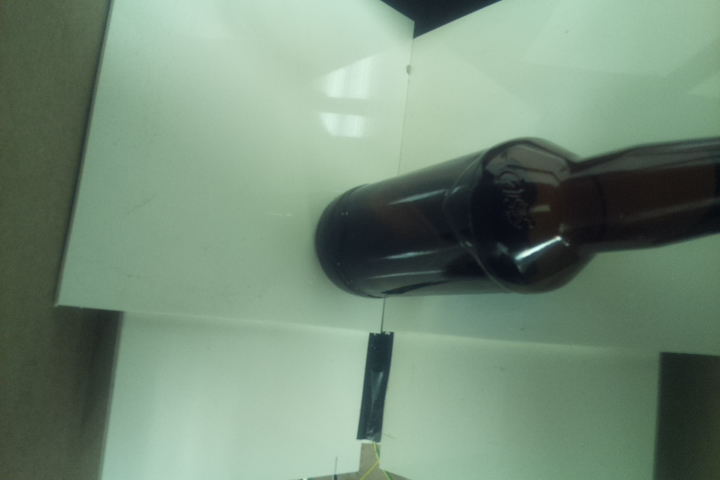makju: (314, 130, 720, 302)
